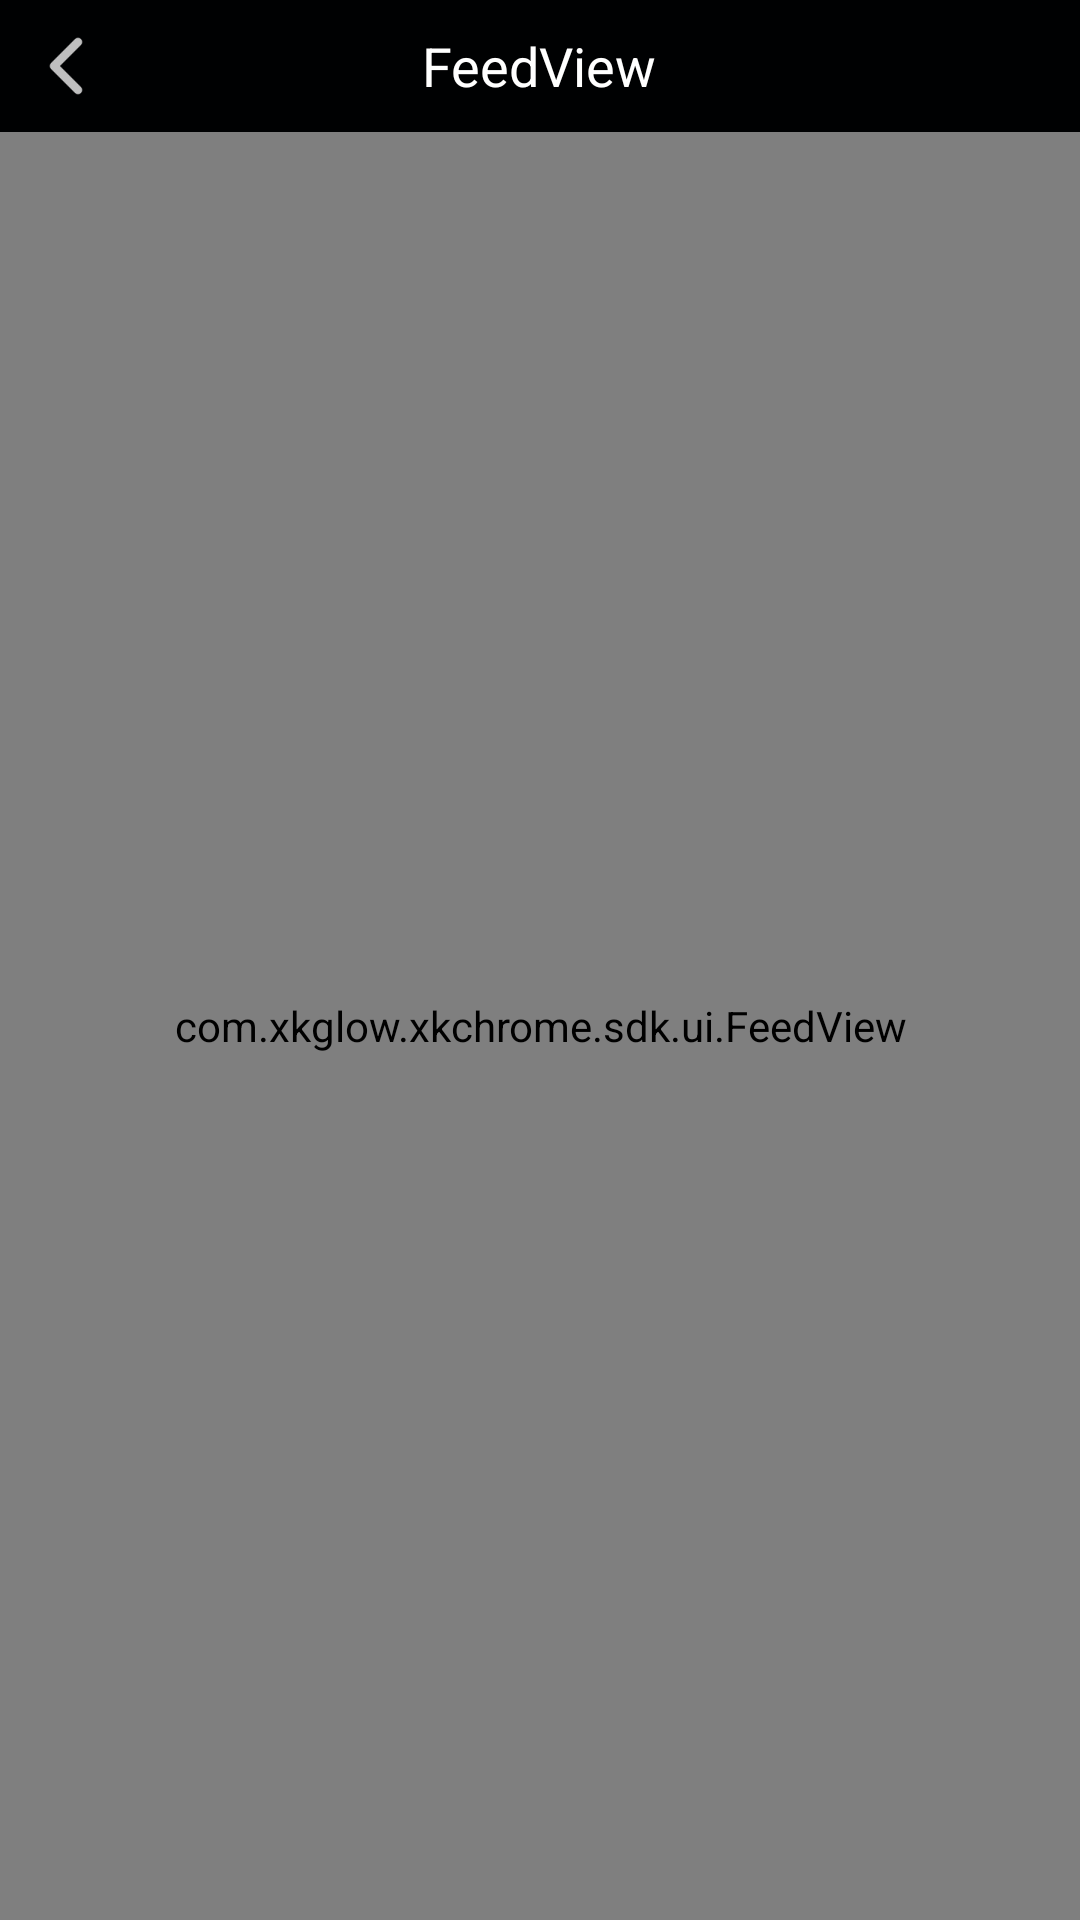

Named icons in this screenshot (1080×1920) and their bounding boxes, (x1, y1, x2, y2):
back: (49, 37, 83, 95)
